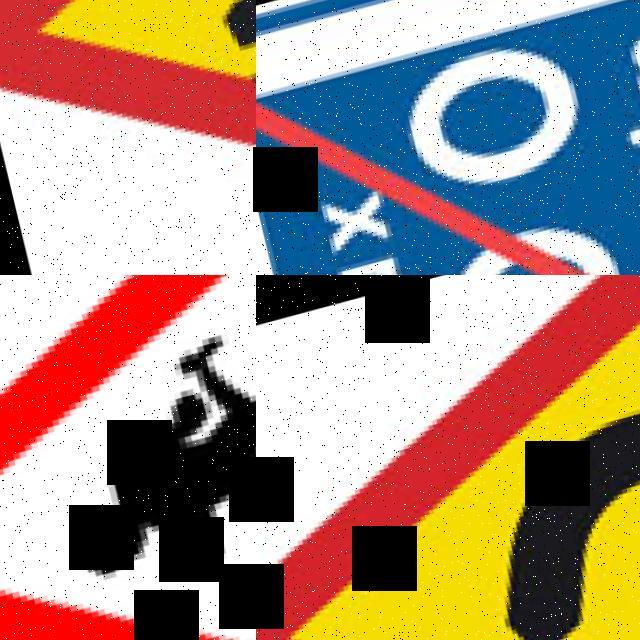103: (256, 0, 640, 275)
137: (256, 275, 640, 640)
School: (0, 275, 256, 640)
falling rocks -from- left: (0, 0, 256, 275)
